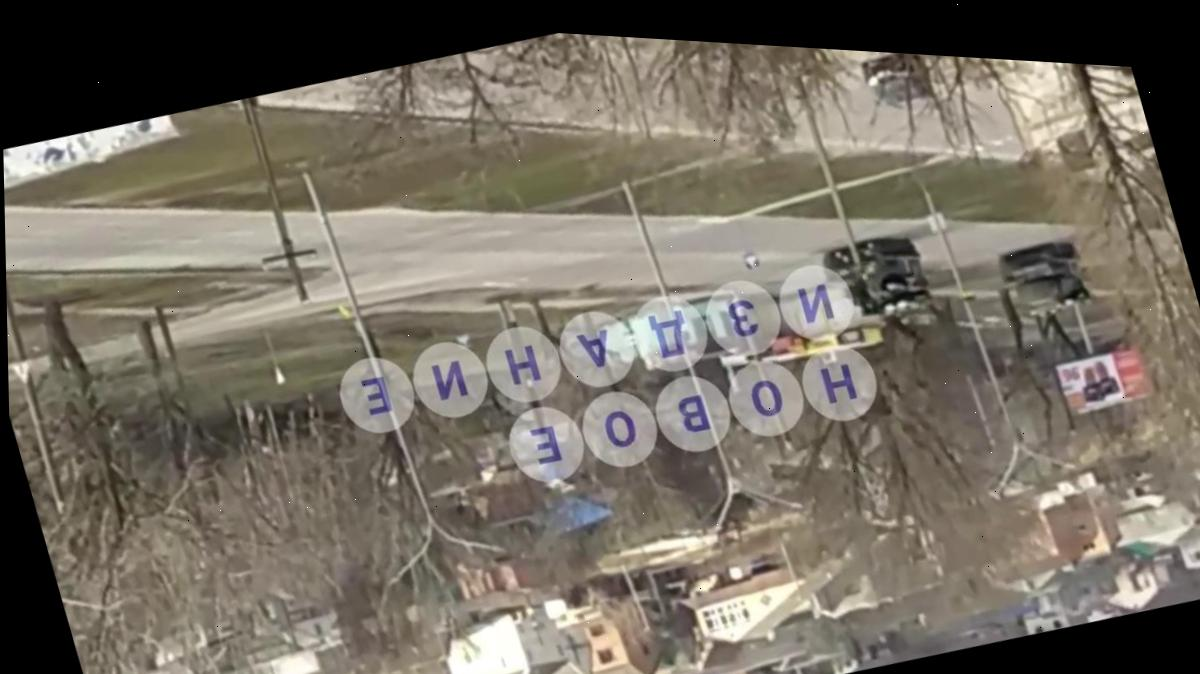car: (858, 51, 941, 122)
rszo: (818, 224, 935, 334), (994, 234, 1095, 327)
